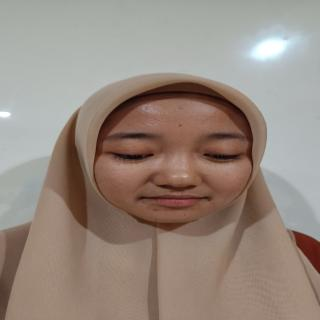Sedih: (93, 94, 269, 228)
